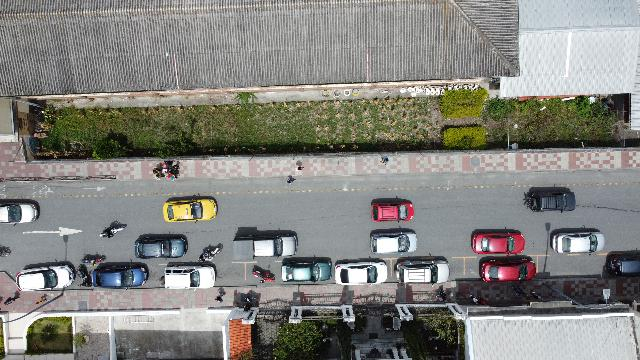Vehiculo: (232, 228, 298, 260), (16, 261, 76, 292), (394, 255, 450, 284), (334, 258, 388, 286), (479, 256, 536, 282), (550, 226, 604, 253), (92, 262, 148, 288), (163, 196, 217, 222), (472, 228, 524, 254), (523, 186, 575, 212), (164, 263, 216, 289), (282, 256, 332, 282), (134, 234, 188, 258), (369, 228, 417, 254), (0, 198, 40, 224), (371, 197, 414, 221), (606, 250, 640, 276)
